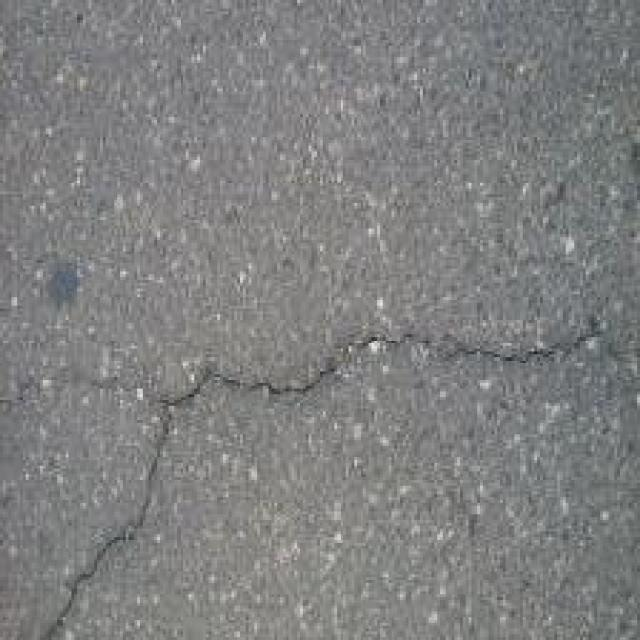crack: (42, 268, 592, 640)
